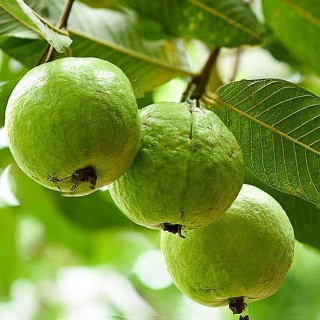oi: (5, 55, 140, 196)
